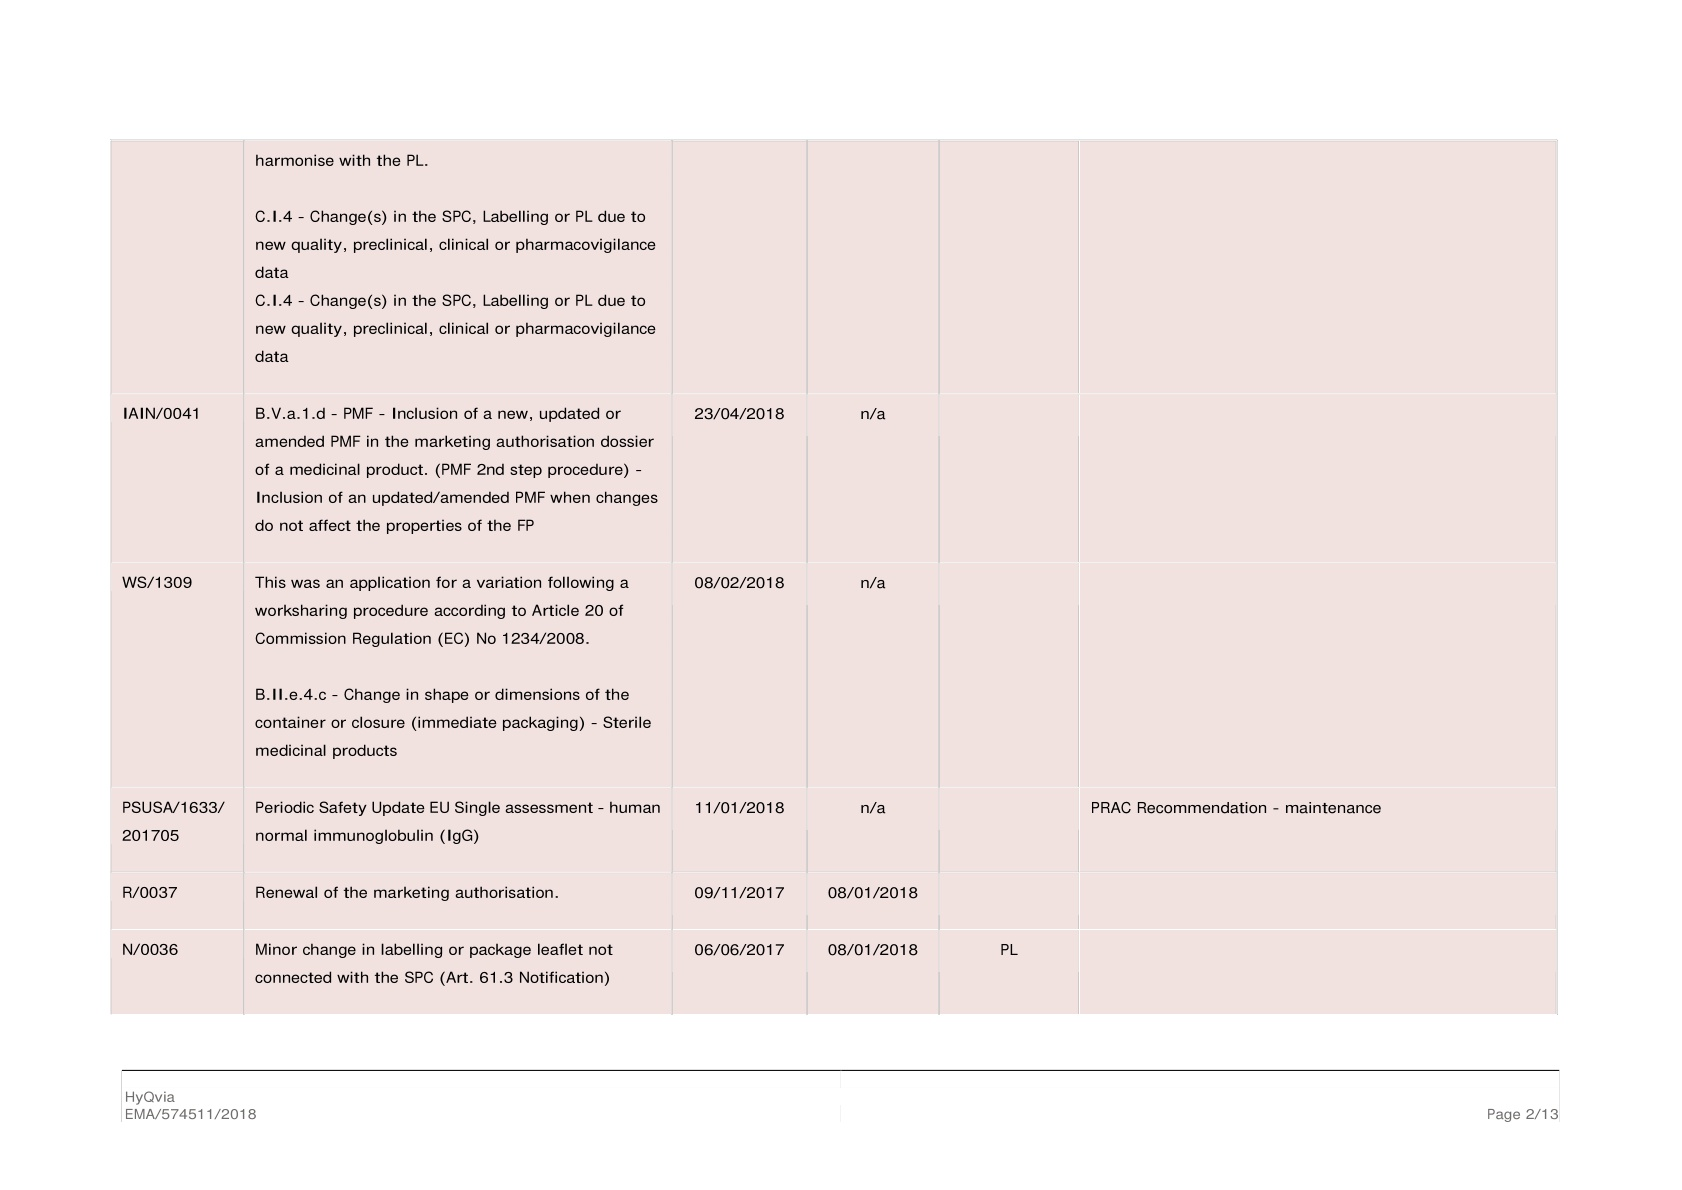full_lined: (109, 138, 1558, 1015)
